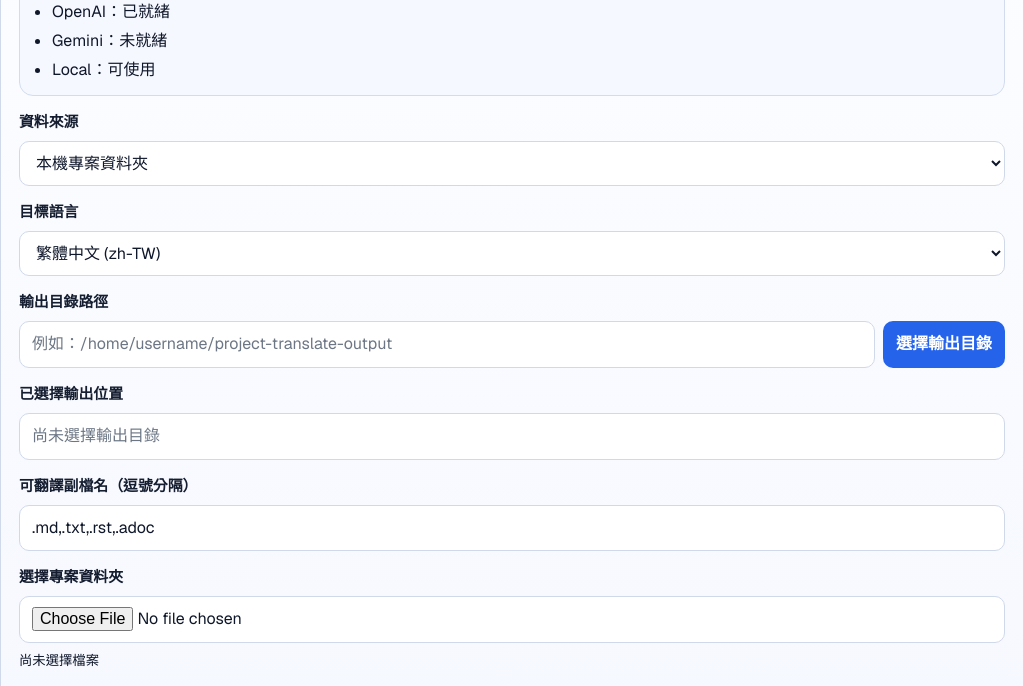
Test case: JobForm › fills output directory by folder-picker button and shows selected path
The image size is (1024, 686).
(page scrolled)
Click the button "選擇輸出目錄" at [944, 344], box [883, 321, 1005, 368]
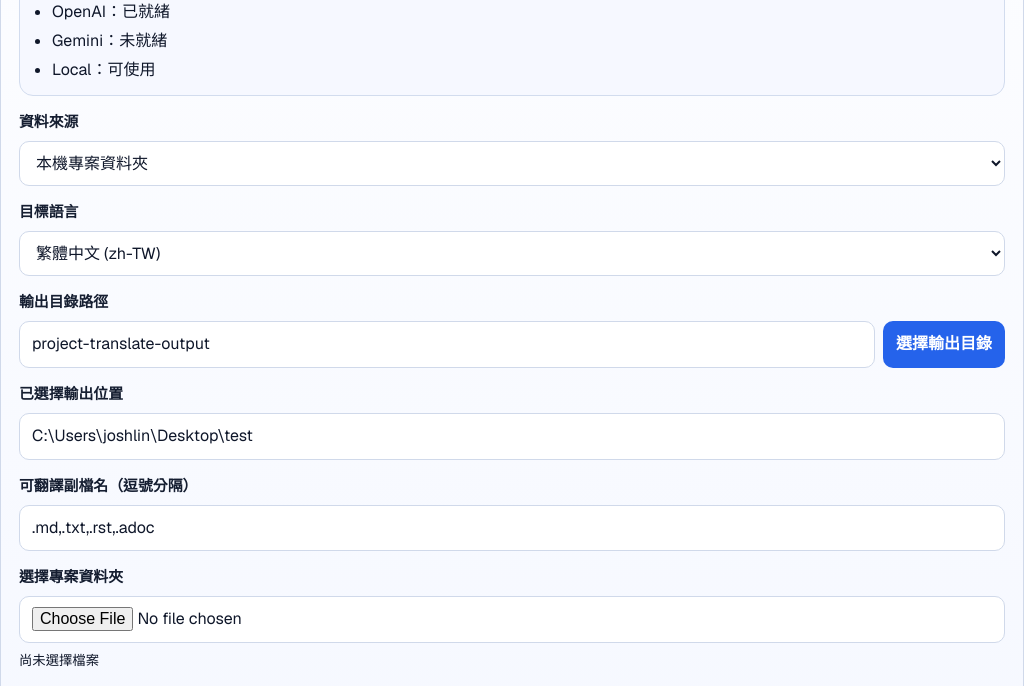
Result: the field labelled "輸出目錄路徑" holds "project-translate-output" at [19, 321, 875, 368]
Result: the field labelled "已選擇輸出位置" holds "C:\\Users\\joshlin\\Desktop\\test" at [19, 413, 1005, 460]
